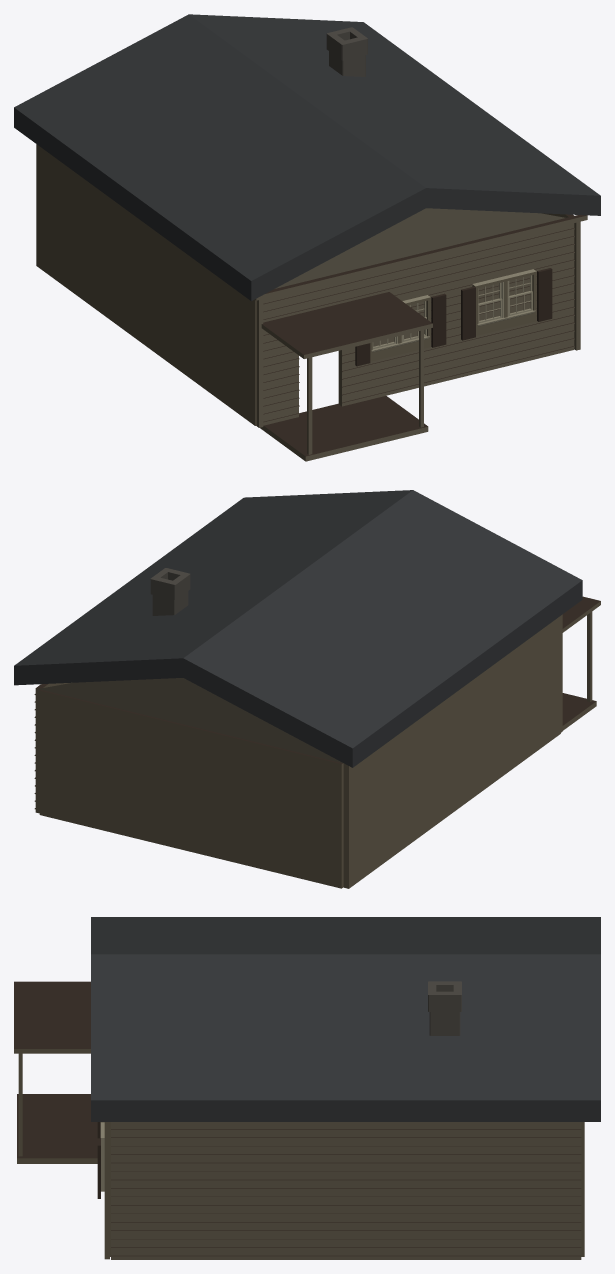
Rendered from house.glb.
3 views of the same model, one above another, from view 1: azimuth 30°, elevation 25°; view 2: azimuth 150°, elevation 25°; view 3: azimuth 270°, elevation 25° (orthographic). The views are drawn at different scales.
Parts seen in each view (by area): view 1: Roof_west, Roof_east, West_cladding, Front_right_of_door, Front_gable, Porch_roof, Porch_slab, Front_left_of_door, Front_eave_trim, Front_window_2.75, Chimney, Front_window_-0.7 (+6 smaller); view 2: Roof_west, Rear_cladding, Roof_east, West_cladding, Rear_gable, Chimney, Porch_slab, East_cladding, Porch_roof, Porch_post_-4.87; view 3: Roof_east, East_cladding, Roof_west, Porch_roof, Porch_slab, Chimney, Siding_side_11, Siding_side_1, Siding_side_3, Siding_side_8, Siding_side_10, Siding_side_12 (+13 smaller).
Boxes of the visible parts, bbox=[...] form: Roof_west: bbox=[14, 14, 425, 301]; Roof_east: bbox=[189, 14, 600, 215]; West_cladding: bbox=[36, 144, 256, 425]; Front_right_of_door: bbox=[338, 223, 574, 406]; Front_gable: bbox=[275, 208, 565, 288]; Porch_roof: bbox=[261, 292, 432, 358]; Porch_slab: bbox=[260, 396, 428, 461]; Front_left_of_door: bbox=[263, 290, 298, 425]; Front_eave_trim: bbox=[255, 215, 587, 300]; Front_window_2.75: bbox=[472, 269, 536, 335]; Chimney: bbox=[326, 27, 367, 76]; Front_window_-0.7: bbox=[370, 295, 430, 361]; Roof_west: bbox=[183, 490, 582, 767]; Rear_cladding: bbox=[39, 689, 343, 888]; Roof_east: bbox=[14, 490, 412, 685]; West_cladding: bbox=[343, 616, 560, 888]; Rear_gable: bbox=[39, 678, 343, 763]; Chimney: bbox=[150, 568, 190, 615]; Porch_slab: bbox=[562, 693, 596, 730]; East_cladding: bbox=[35, 682, 71, 813]; Porch_roof: bbox=[562, 596, 600, 632]; Porch_post_-4.87: bbox=[587, 611, 592, 701]; Roof_east: bbox=[91, 954, 600, 1121]; East_cladding: bbox=[111, 1122, 581, 1259]; Roof_west: bbox=[91, 917, 600, 954]; Porch_roof: bbox=[14, 981, 90, 1053]; Porch_slab: bbox=[17, 1094, 97, 1163]; Chimney: bbox=[428, 981, 461, 1035]; Siding_side_11: bbox=[111, 1162, 581, 1164]; Siding_side_1: bbox=[111, 1247, 581, 1248]; Siding_side_3: bbox=[111, 1230, 581, 1231]; Siding_side_8: bbox=[111, 1188, 581, 1189]; Siding_side_10: bbox=[111, 1171, 581, 1172]; Siding_side_12: bbox=[111, 1154, 581, 1155].
Bounding box in the file's own units: 11.4 × 6.89 × 15.43.
